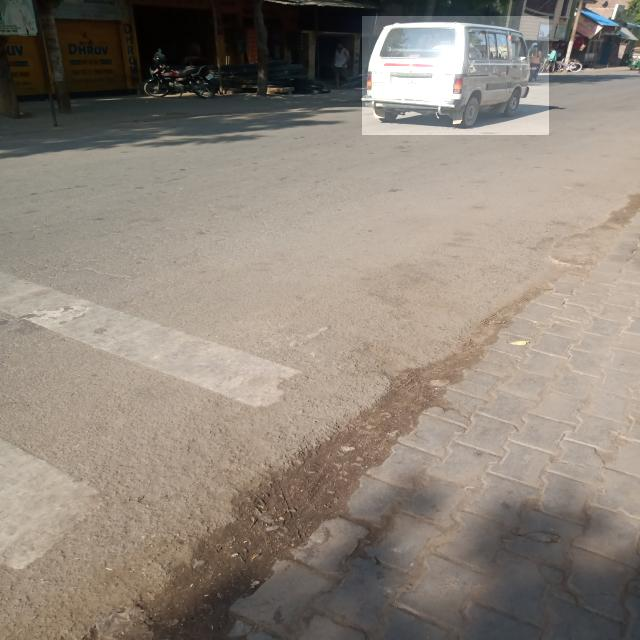Travller: (362, 16, 549, 135)
